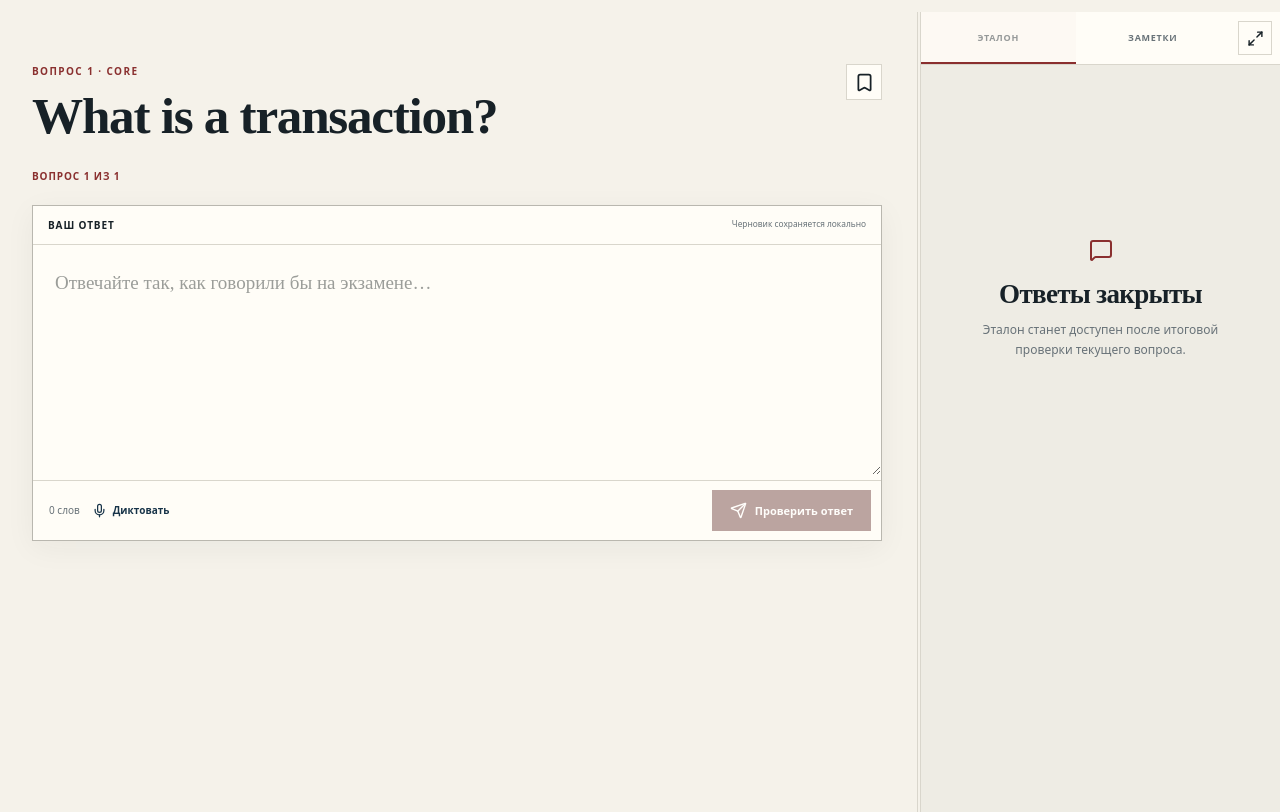
Test: Workspace › hides readiness status after a final review and offers a fresh attempt
Type "Полный ответ о транзакции" into the text box named "ответ на вопрос".
click(457, 360); type("Полный ответ о транзакции")  # box [33,245,881,475]
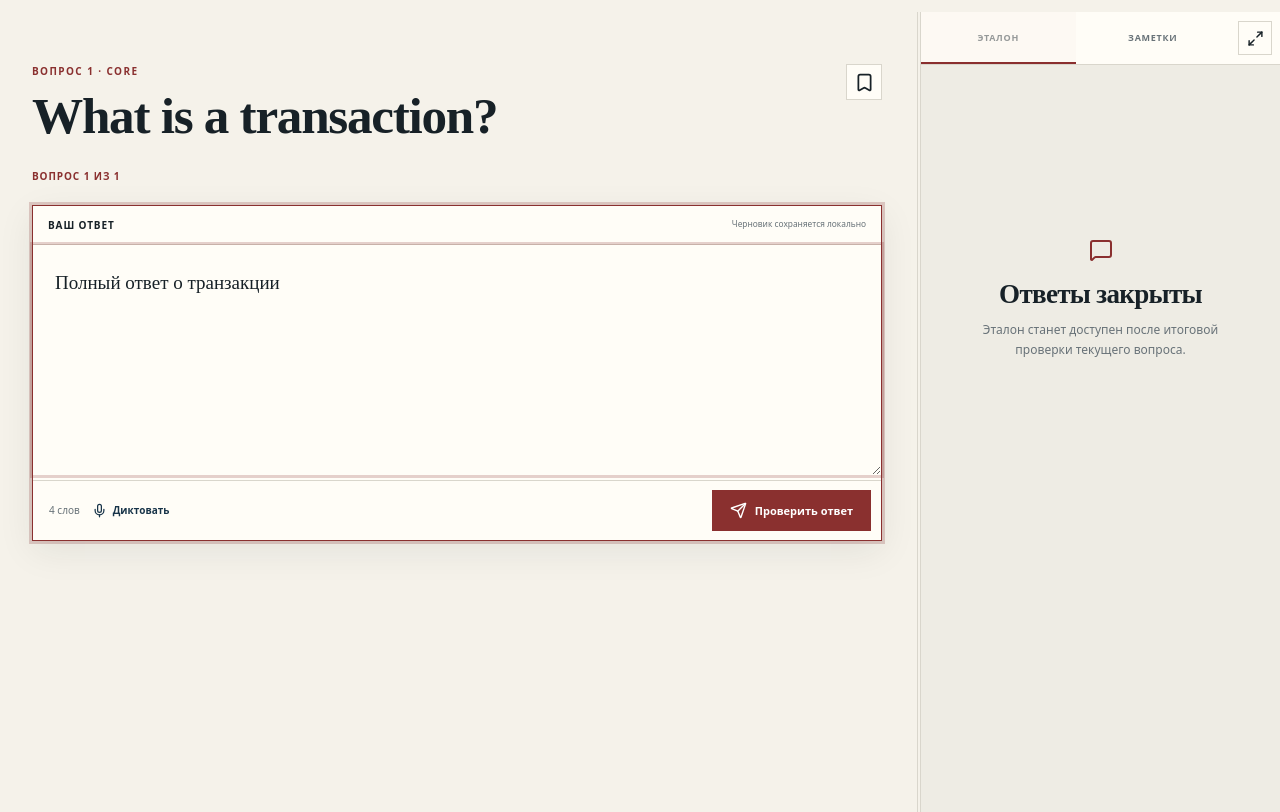
Click the button "Проверить ответ".
click(791, 510)  # box [712,490,871,531]
(page scrolled)
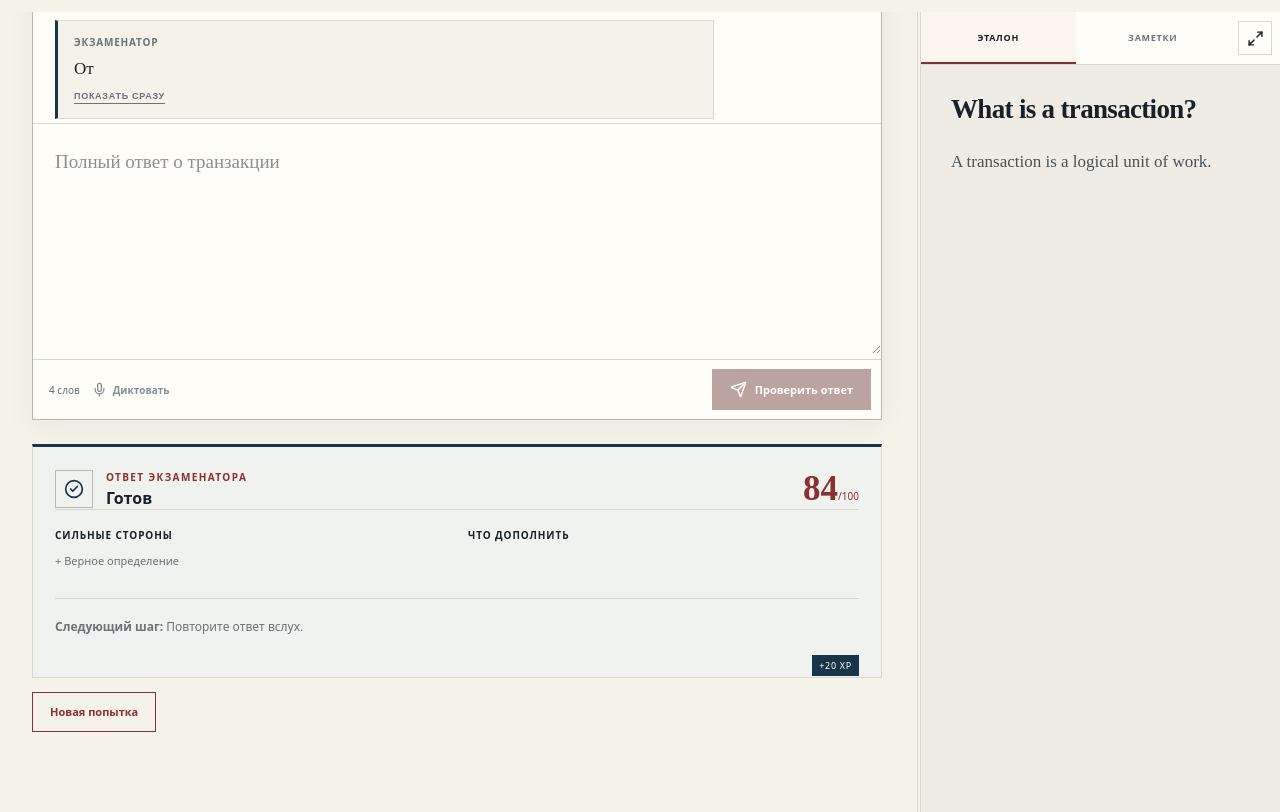
Expected: the text "84" is shown, [803,469,838,509]
Expected: the text box named "Ответ на вопрос" is disabled, [33,124,881,354]
Click the button "Новая попытка".
click(94, 712)  # box [32,692,156,732]
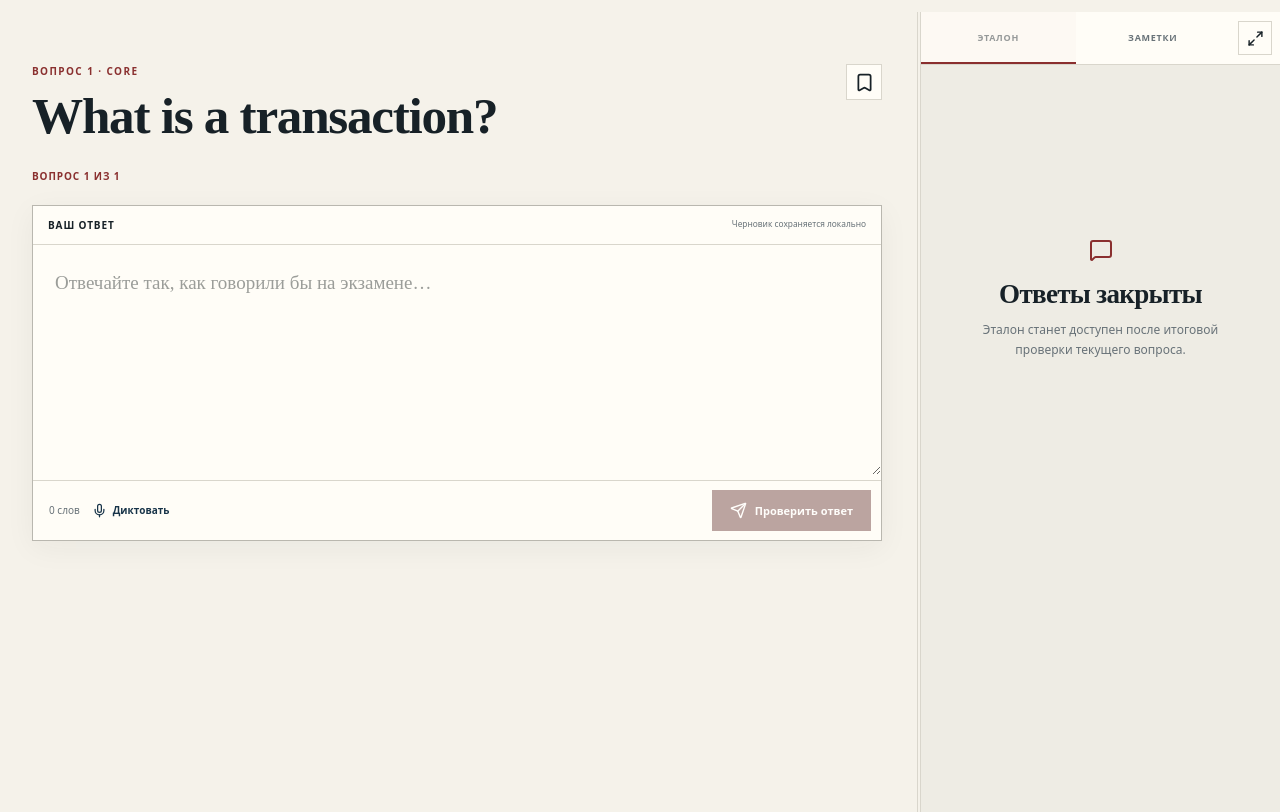
Expected: the text box with placeholder "Отвечайте так, как говорили бы на экзамене…" is enabled, [33,245,881,475]
Expected: the text box with placeholder "Отвечайте так, как говорили бы на экзамене…" is empty, [33,245,881,475]
